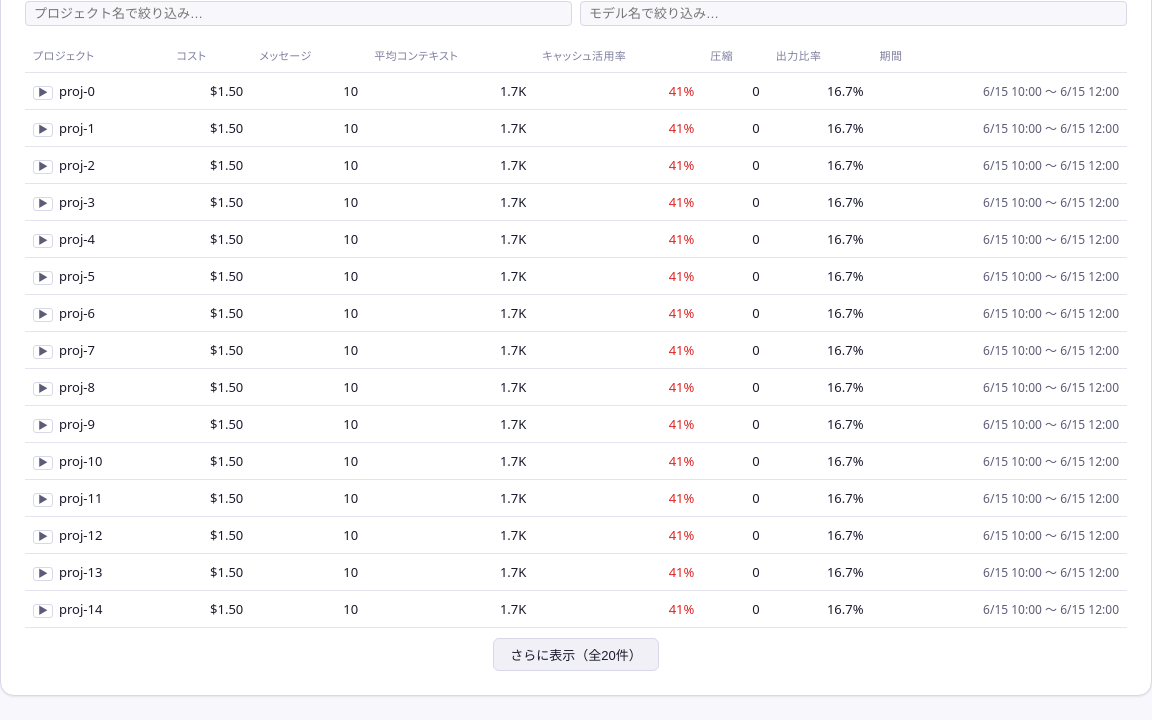
Test: SessionBreakdown › 「さらに表示」クリックで全件表示される
The image size is (1152, 720).
(page scrolled)
Expected: the text "proj-14" is shown, [59,600,102,618]
Expected: the text "proj-19" is not shown
Click the button "さらに表示（全20件）" at (576, 654), box [493,638,659,671]
(page scrolled)
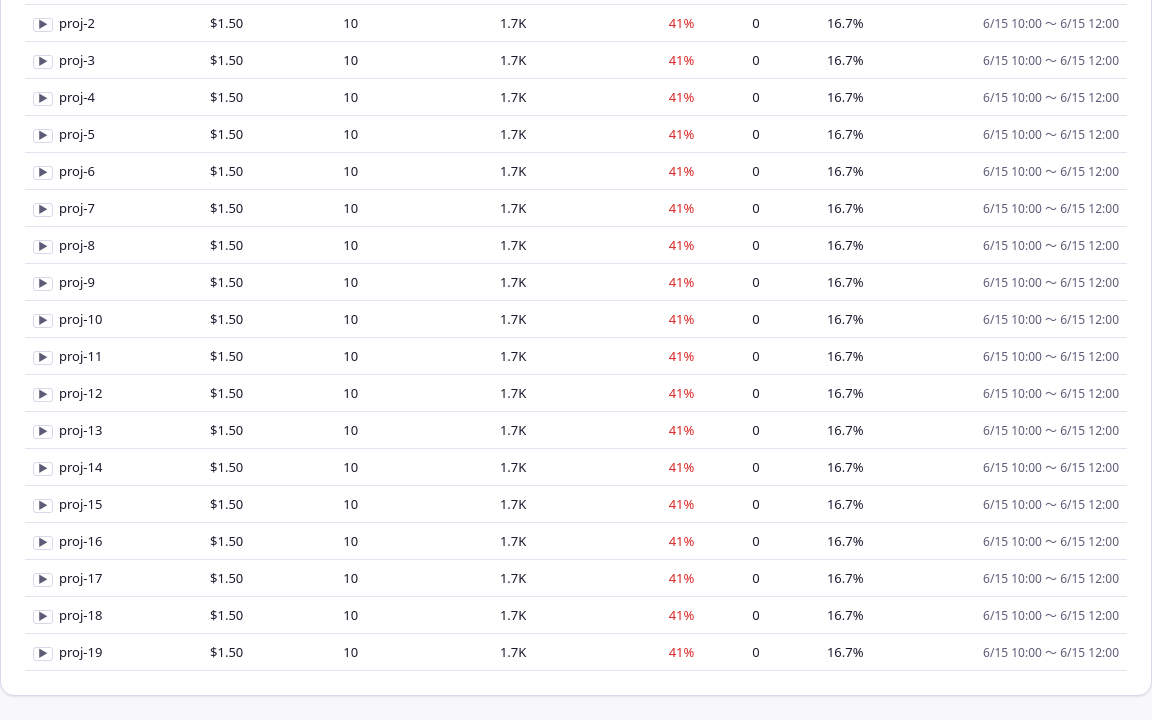
Expected: the text "proj-19" is shown, [59,643,102,661]
Expected: the button "さらに表示" is gone
